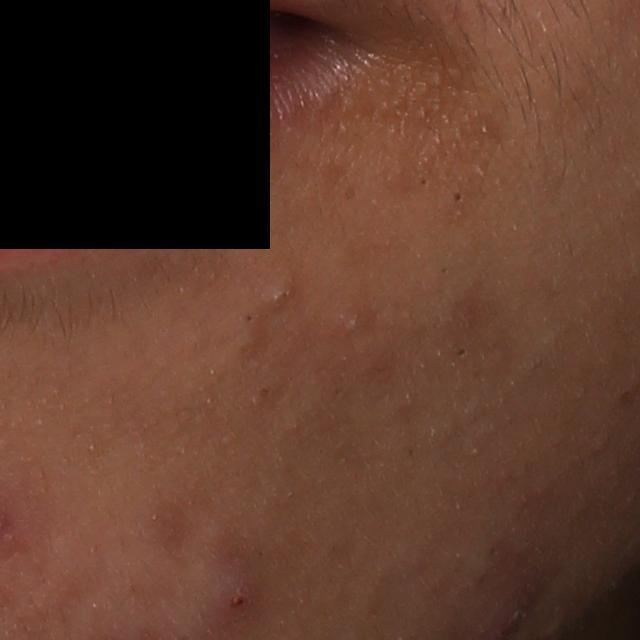comedo: (265, 286, 291, 313), (447, 188, 469, 205), (244, 309, 257, 325)
papule: (199, 569, 258, 638)
